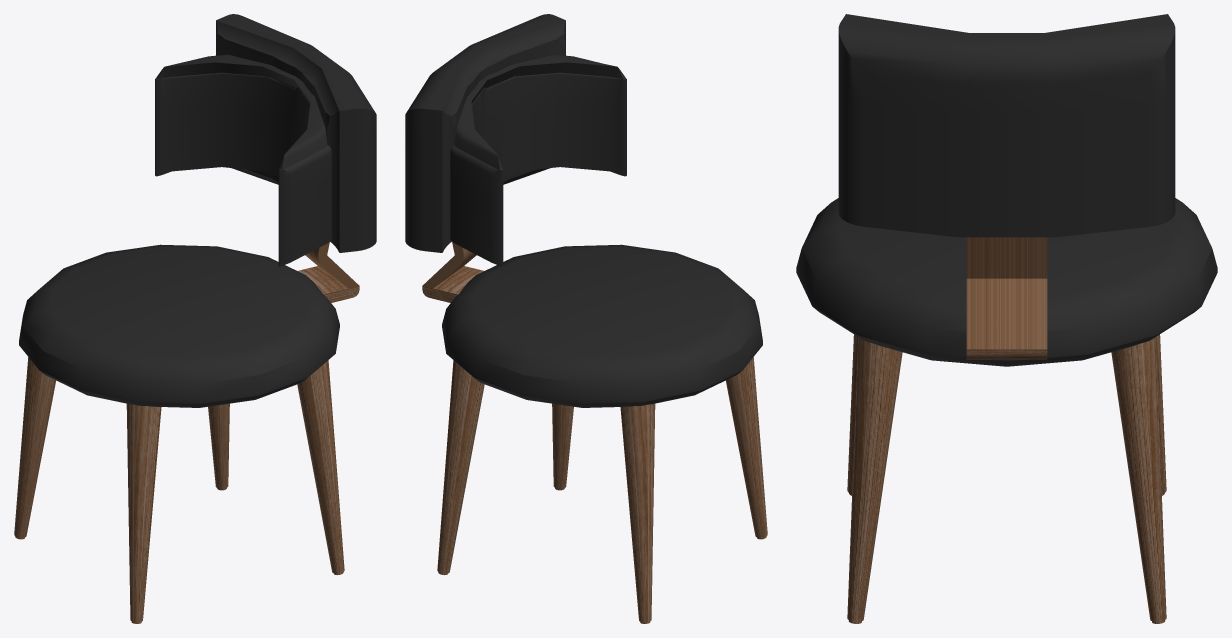
File: Chair.fbx
3 views of the same model, side by side, from view 1: azimuth 30°, elevation 25°; view 2: azimuth 150°, elevation 25°; view 3: azimuth 270°, elevation 25° (orthographic). The views are drawn at different scales.
Visible parts, largest first — view 1: Cylinder.001, Cylinder.002, Cylinder, Cube.001, Cube; view 2: Cylinder.001, Cylinder.002, Cylinder, Cube.001, Cube; view 3: Cube.001, Cylinder.001, Cylinder, Cube.
Boxes of the visible parts, x1,y1,x2,y2 form: Cylinder.001: (19,244,339,407); Cylinder.002: (155,54,331,266); Cylinder: (14,357,344,623); Cube.001: (216,14,376,252); Cube: (298,241,359,302); Cylinder.001: (442,244,762,407); Cylinder.002: (450,54,626,266); Cylinder: (437,357,767,623); Cube.001: (405,14,565,252); Cube: (422,241,483,302); Cube.001: (838,14,1175,237); Cylinder.001: (796,198,1217,366); Cylinder: (847,334,1166,623); Cube: (966,237,1047,359).
Size of the model in its own units: 5593 by 8164 by 5142.
2 materials, 1 textured.
